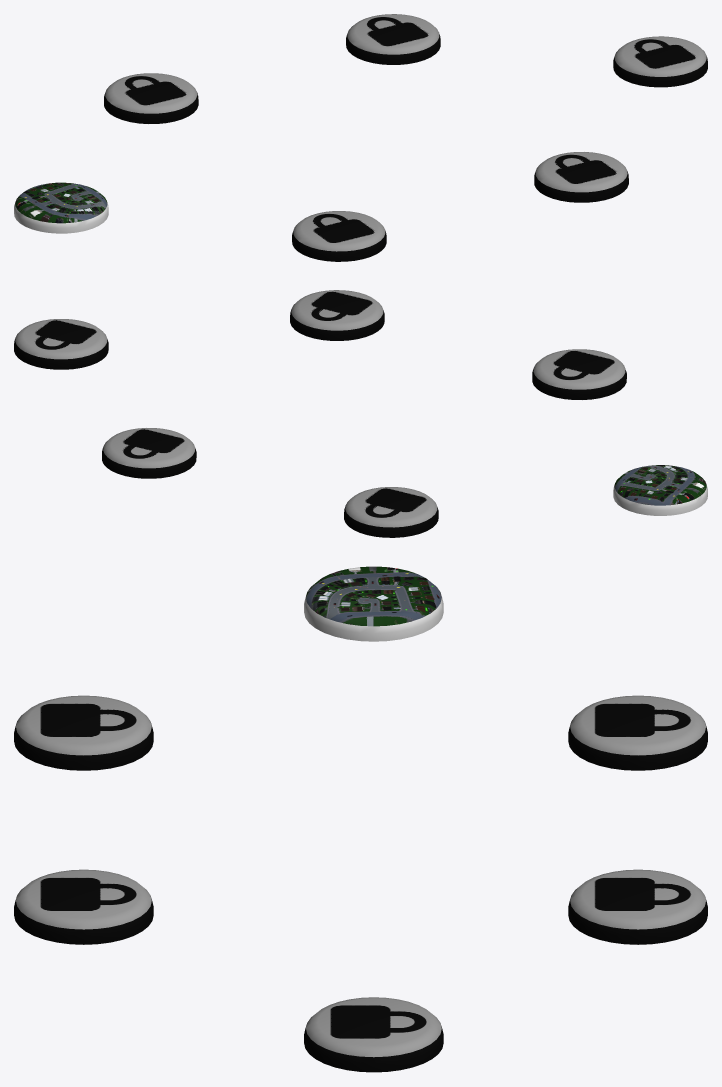
Rendered from LevelSelectioncircles.fbx.
3 renders of one model, top to bottom at view 1: azimuth 30°, elevation 25°; view 2: azimuth 150°, elevation 25°; view 3: azimuth 270°, elevation 25°, orthographic. The views are drawn at different scales.
Parts seen in each view (by area): view 1: Cylinder.009, Cylinder, Cylinder.007, Cylinder.008, Cylinder.002, Cylinder.006; view 2: Cylinder, Cylinder.006, Cylinder.007, Cylinder.008, Cylinder.002, Cylinder.009; view 3: Cylinder, Cylinder.009, Cylinder.002, Cylinder.008, Cylinder.006, Cylinder.007.
Boxes of the visible parts, bbox=[...] form: Cylinder.009: bbox=[613, 36, 707, 87]; Cylinder: bbox=[14, 182, 108, 233]; Cylinder.007: bbox=[346, 14, 440, 64]; Cylinder.008: bbox=[104, 73, 198, 123]; Cylinder.002: bbox=[292, 211, 386, 261]; Cylinder.006: bbox=[534, 152, 628, 202]; Cylinder: bbox=[613, 465, 707, 515]; Cylinder.006: bbox=[290, 290, 384, 340]; Cylinder.007: bbox=[102, 428, 196, 478]; Cylinder.008: bbox=[344, 487, 438, 537]; Cylinder.002: bbox=[532, 349, 626, 399]; Cylinder.009: bbox=[14, 319, 108, 369]; Cylinder: bbox=[304, 566, 443, 641]; Cylinder.009: bbox=[304, 997, 443, 1072]; Cylinder.002: bbox=[14, 695, 153, 770]; Cylinder.008: bbox=[568, 695, 707, 770]; Cylinder.006: bbox=[14, 869, 153, 944]; Cylinder.007: bbox=[568, 869, 707, 944].
Bounding box in the file's own units: 1589 × 31.42 × 952.
